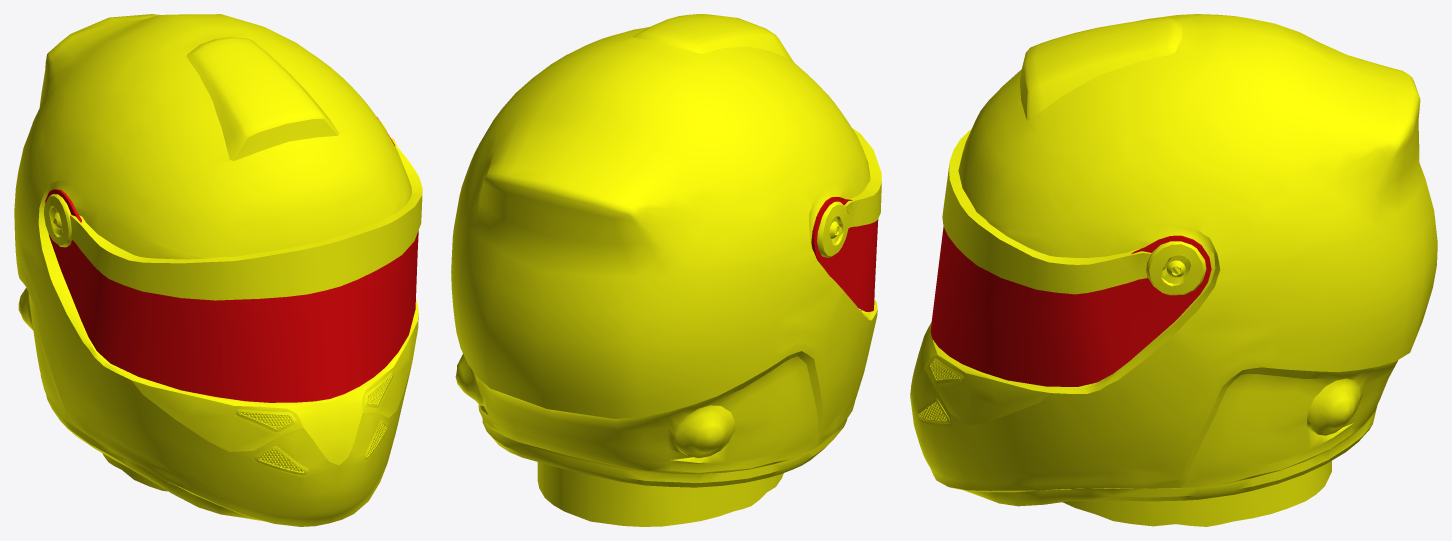
Rendered from F1PS_Helmet_V09.glb.
3 views of the same model, side by side, from view 1: azimuth 30°, elevation 25°; view 2: azimuth 150°, elevation 25°; view 3: azimuth 270°, elevation 25° (orthographic). The views are drawn at different scales.
Parts seen in each view (by area): view 1: Helmet_main, Helmet_main_visor; view 2: Helmet_main, Helmet_main_visor; view 3: Helmet_main, Helmet_main_visor.
Part boxes in pixels (x1=…): Helmet_main: x1=14, y1=14, x2=422, y2=526; Helmet_main_visor: x1=45, y1=117, x2=418, y2=402; Helmet_main: x1=451, y1=14, x2=881, y2=526; Helmet_main_visor: x1=811, y1=196, x2=878, y2=311; Helmet_main: x1=910, y1=14, x2=1437, y2=526; Helmet_main_visor: x1=930, y1=227, x2=1211, y2=386.
Size of the model in its own units: 1.91 by 2.23 by 2.38.
3 materials, 2 textured.
